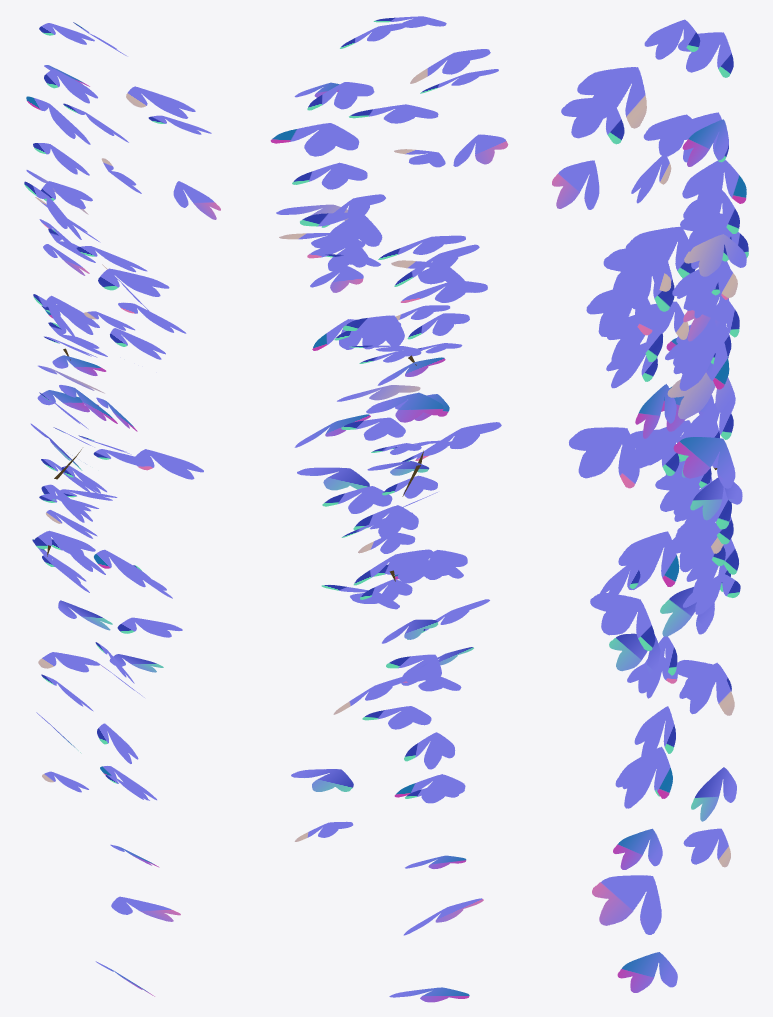
File: SM_ivy_U_straight_A_LOD1.fbx
The picture shows the model from 3 angles, left to right: view 1: azimuth 90°, elevation 25°; view 2: azimuth 150°, elevation 25°; view 3: azimuth 270°, elevation 25°; orthographic projection. The views are drawn at different scales.
Parts seen in each view (by area): view 1: SM_ivy_U_straight_A_LOD1; view 2: SM_ivy_U_straight_A_LOD1; view 3: SM_ivy_U_straight_A_LOD1.
Boxes of the visible parts, bbox=[...] form: SM_ivy_U_straight_A_LOD1: bbox=[24, 22, 220, 996]; SM_ivy_U_straight_A_LOD1: bbox=[270, 16, 508, 1002]; SM_ivy_U_straight_A_LOD1: bbox=[552, 19, 748, 992].
Size of the model in its own units: 99.75 by 583 by 118.
